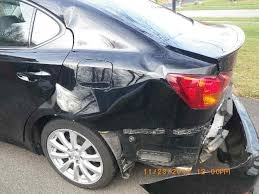Dent: (39, 68, 148, 117), (134, 55, 168, 79), (71, 39, 129, 51), (60, 5, 81, 29)
Smashed: (101, 92, 258, 194)
